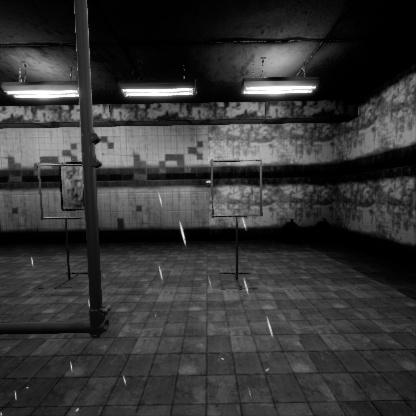gate: (210, 198, 267, 257), (38, 196, 94, 252)
